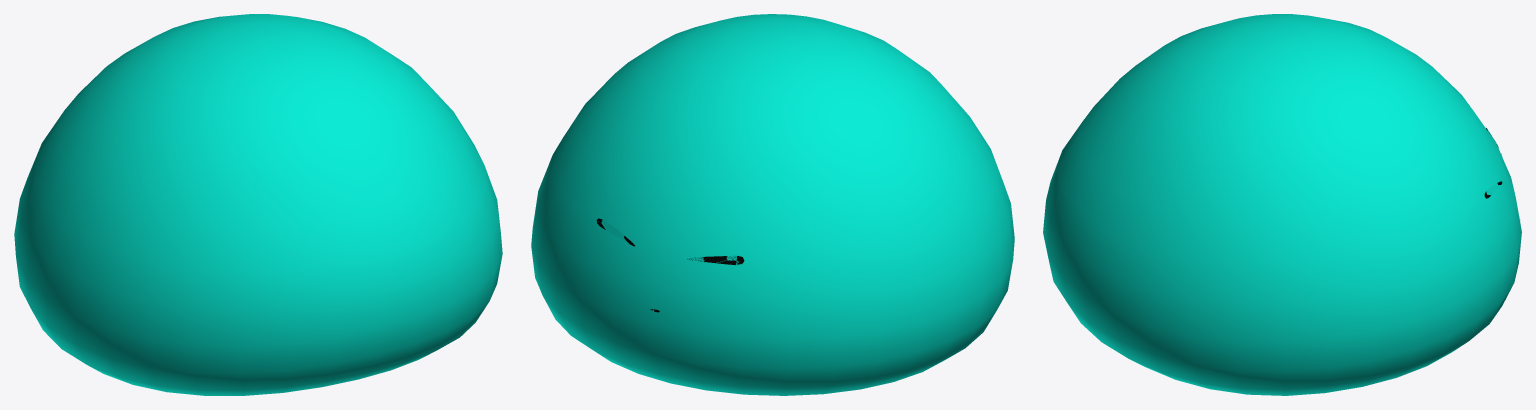
Rendered from Slime.fbx.
3 views of the same model, side by side, from view 1: azimuth 30°, elevation 25°; view 2: azimuth 150°, elevation 25°; view 3: azimuth 270°, elevation 25° (orthographic). The views are drawn at different scales.
Visible parts, largest first — view 1: up; view 2: up; view 3: up.
Boxes of the visible parts, x1,y1,x2,y2 form: up: [14, 14, 502, 395]; up: [531, 14, 1014, 395]; up: [1043, 14, 1521, 395].
Size of the model in its own units: 197 by 129 by 198.
